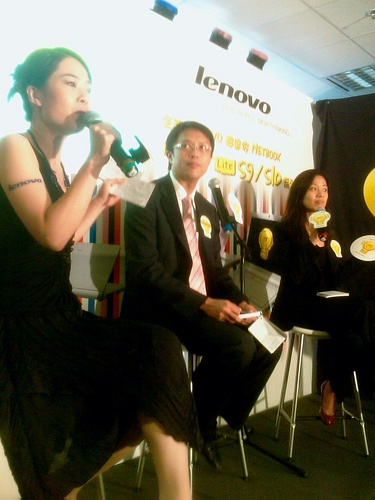head: (17, 44, 94, 137), (164, 120, 216, 180), (290, 166, 334, 213)
person: (1, 41, 139, 498), (120, 116, 264, 485), (263, 166, 370, 437)
